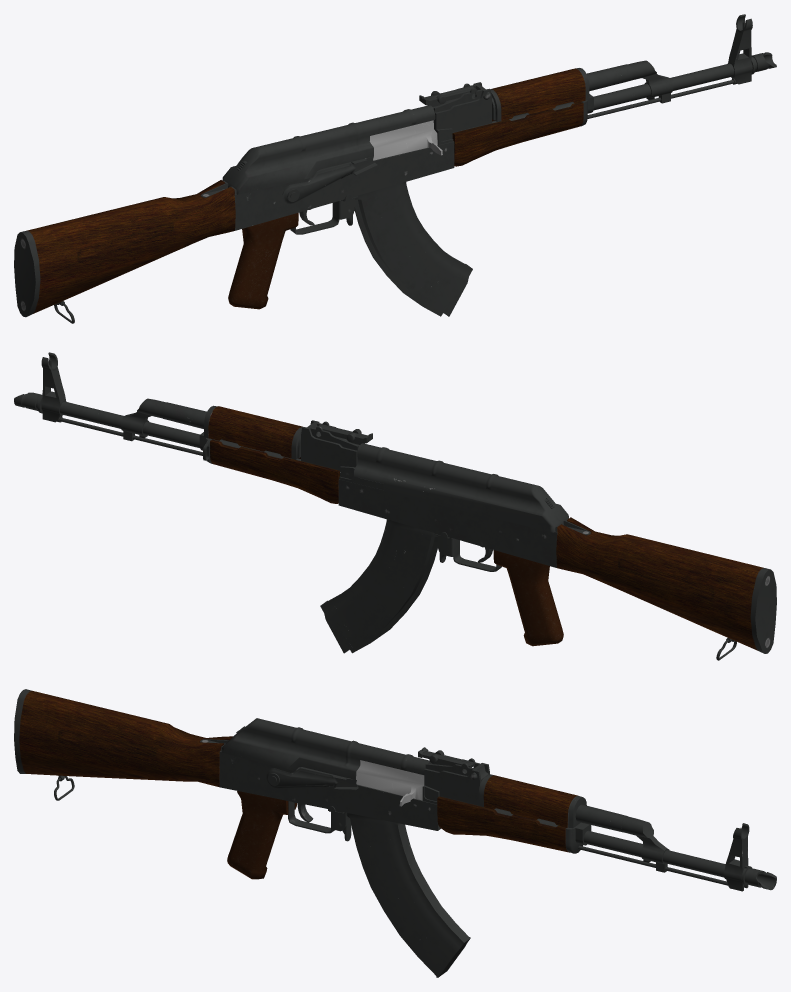
3 renders of one model, top to bottom at view 1: azimuth 30°, elevation 25°; view 2: azimuth 150°, elevation 25°; view 3: azimuth 330°, elevation 25°, orthographic.
Parts seen in each view (by area): view 1: Stock_low, Magazine_low, UpperReciver_low, HandGuard_low, Cev_low, Body_low, Grip_low, Aim_low, BackStock_low, BoltCarrier_low, SaeftyLock_low, TriggerFrame_low; view 2: Stock_low, UpperReciver_low, Magazine_low, Body_low, HandGuard_low, Cev_low, Grip_low, Aim_low, BackStock_low, TriggerFrame_low; view 3: Stock_low, Magazine_low, Cev_low, HandGuard_low, UpperReciver_low, Body_low, Grip_low, Aim_low, BoltCarrier_low, SaeftyLock_low, TriggerFrame_low, Muzzle_low (+1 smaller).
Part boxes in pixels (left/top/right/bottom): Stock_low: left=27, top=180, right=235, bottom=313; Magazine_low: left=354, top=182, right=472, bottom=316; UpperReciver_low: left=222, top=105, right=435, bottom=194; HandGuard_low: left=452, top=68, right=585, bottom=166; Cev_low: left=490, top=14, right=752, bottom=126; Body_low: left=234, top=141, right=454, bottom=230; Grip_low: left=228, top=212, right=298, bottom=309; Aim_low: left=419, top=82, right=491, bottom=132; BackStock_low: left=14, top=230, right=40, bottom=317; BoltCarrier_low: left=365, top=120, right=442, bottom=160; SaeftyLock_low: left=282, top=156, right=377, bottom=204; TriggerFrame_low: left=290, top=194, right=357, bottom=234; Stock_low: left=556, top=517, right=763, bottom=650; UpperReciver_low: left=354, top=443, right=568, bottom=532; Magazine_low: left=320, top=519, right=437, bottom=653; Body_low: left=338, top=479, right=557, bottom=567; HandGuard_low: left=208, top=406, right=339, bottom=503; Cev_low: left=41, top=352, right=302, bottom=464; Grip_low: left=493, top=550, right=563, bottom=646; Aim_low: left=301, top=420, right=372, bottom=470; BackStock_low: left=750, top=568, right=776, bottom=653; TriggerFrame_low: left=434, top=532, right=501, bottom=571; Stock_low: left=19, top=690, right=232, bottom=787; Magazine_low: left=346, top=813, right=470, bottom=977; Cev_low: left=478, top=774, right=749, bottom=891; HandGuard_low: left=437, top=775, right=578, bottom=852; UpperReciver_low: left=221, top=718, right=432, bottom=779; Body_low: left=219, top=751, right=440, bottom=830; Grip_low: left=227, top=791, right=296, bottom=879; Aim_low: left=418, top=747, right=489, bottom=805; BoltCarrier_low: left=348, top=760, right=424, bottom=806; SaeftyLock_low: left=266, top=768, right=358, bottom=790; TriggerFrame_low: left=288, top=801, right=346, bottom=833; Muzzle_low: left=741, top=866, right=776, bottom=890.
Size of the model in its own units: 0.9029 by 0.2576 by 0.066.
1 material, 1 textured.
